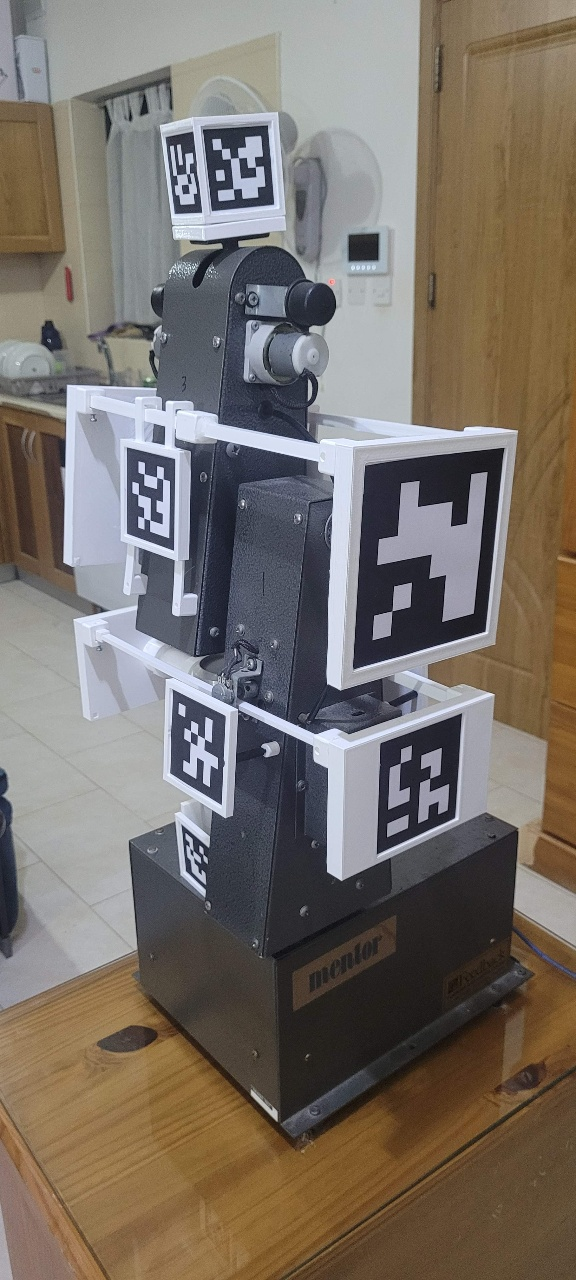Robot: (60, 107, 521, 959)
